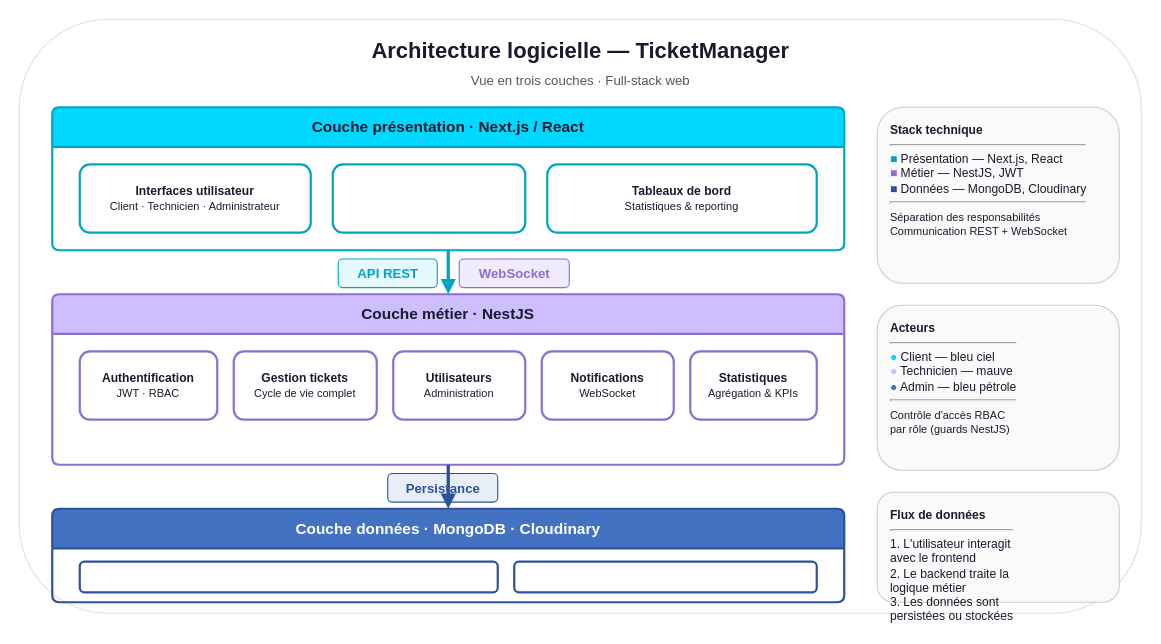
This 1161x644 diagram has some shape labels left out. Here are the shapes that lost their labels. From the top down, the centre of each, then its label:
At point (428, 198): "Notifications Consultation temps réel".
At point (288, 576): "MongoDB — utilisateurs, tickets, notifications, historique".
At point (665, 576): "Cloudinary — stockage externe des pièces jointes".
